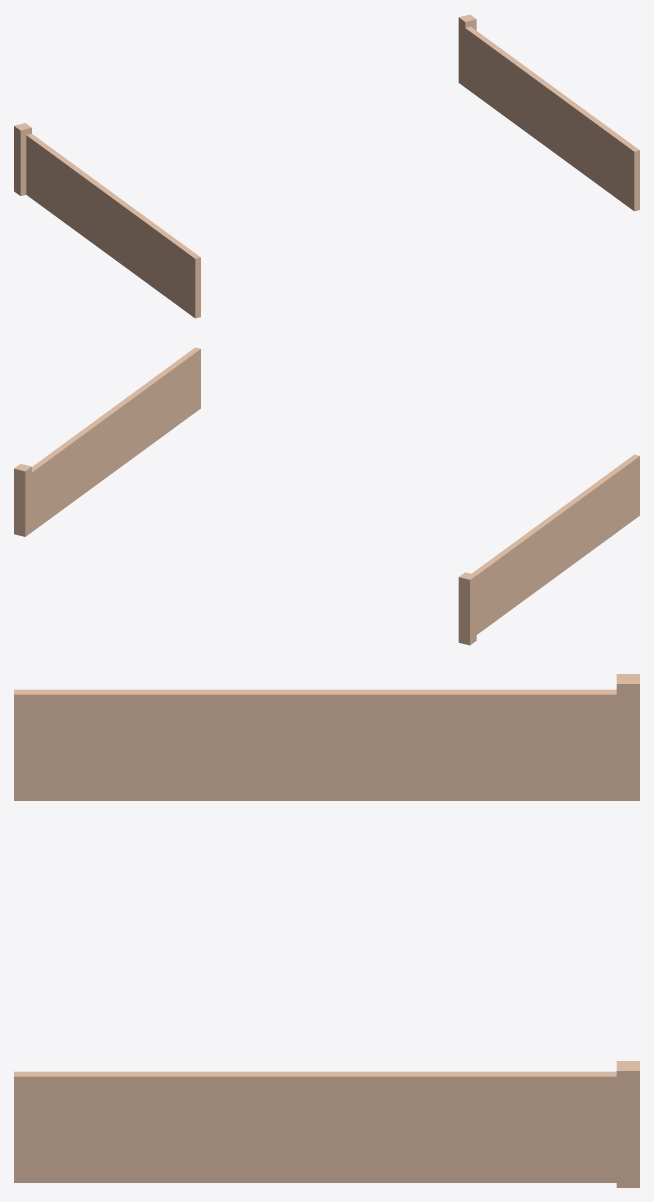
File: fence_open.glb
3 views of the same model, one above another, from view 1: azimuth 30°, elevation 25°; view 2: azimuth 150°, elevation 25°; view 3: azimuth 270°, elevation 25° (orthographic). The views are drawn at different scales.
Parts seen in each view (by area): view 1: fence_open; view 2: fence_open; view 3: fence_open.
Boxes of the visible parts, box(x1,y1,x2,y2) form: fence_open: box(14, 14, 639, 318); fence_open: box(14, 347, 639, 645); fence_open: box(14, 674, 639, 1187).
Bounding box in the file's own units: 11.4 × 1.57 × 7.6.
